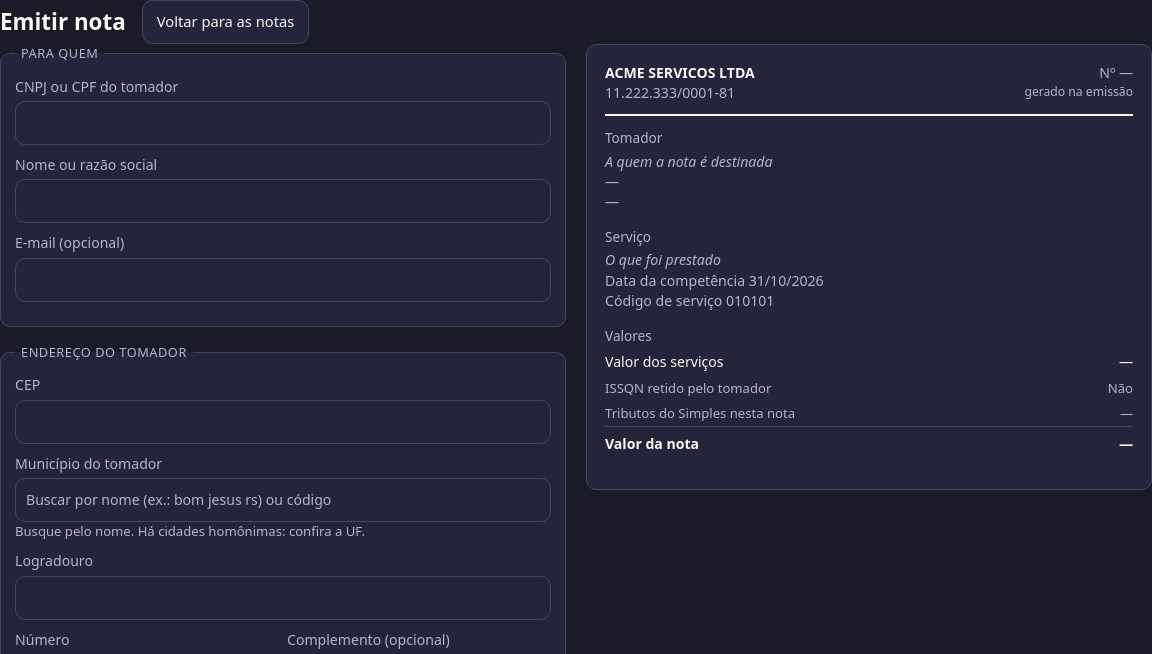
a consulta é AJUDA, nunca portão › nome digitado sobrevive à consulta, e a tela mostra o da Receita ao lado
Type "11222333000181" into the field labelled "CNPJ ou CPF do tomador".
click(283, 123); type("11222333000181")  # box [15,101,551,145]
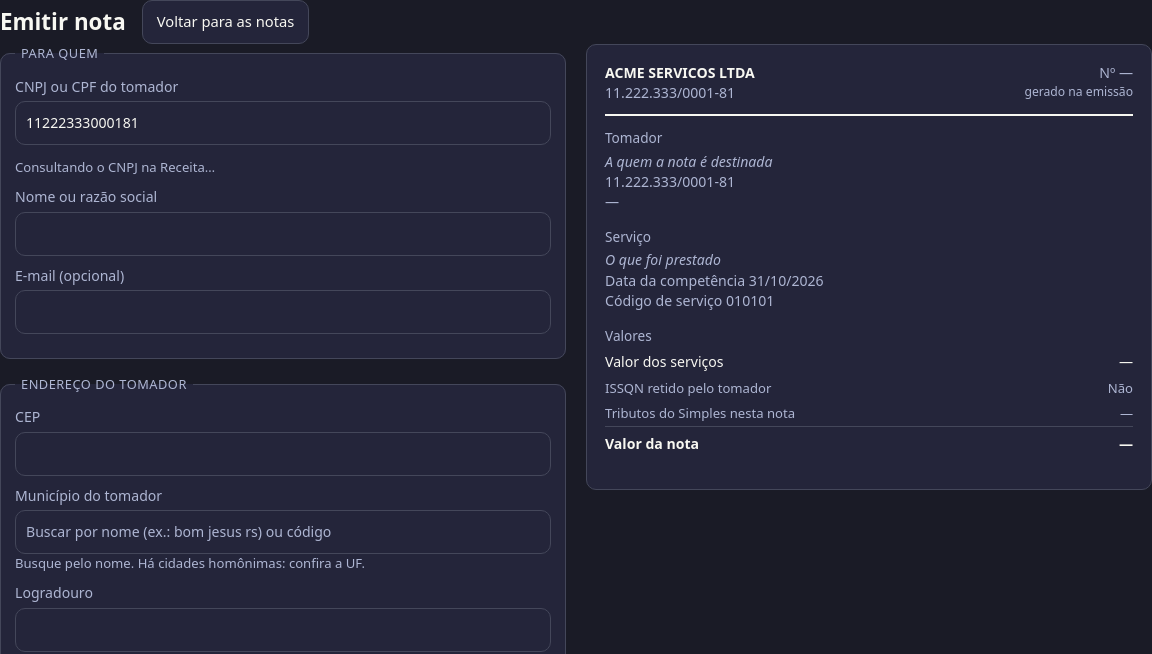
Type "Padaria do João" into the field with id "emitir-nome".
click(283, 234); type("Padaria do João")  # box [15,212,551,256]
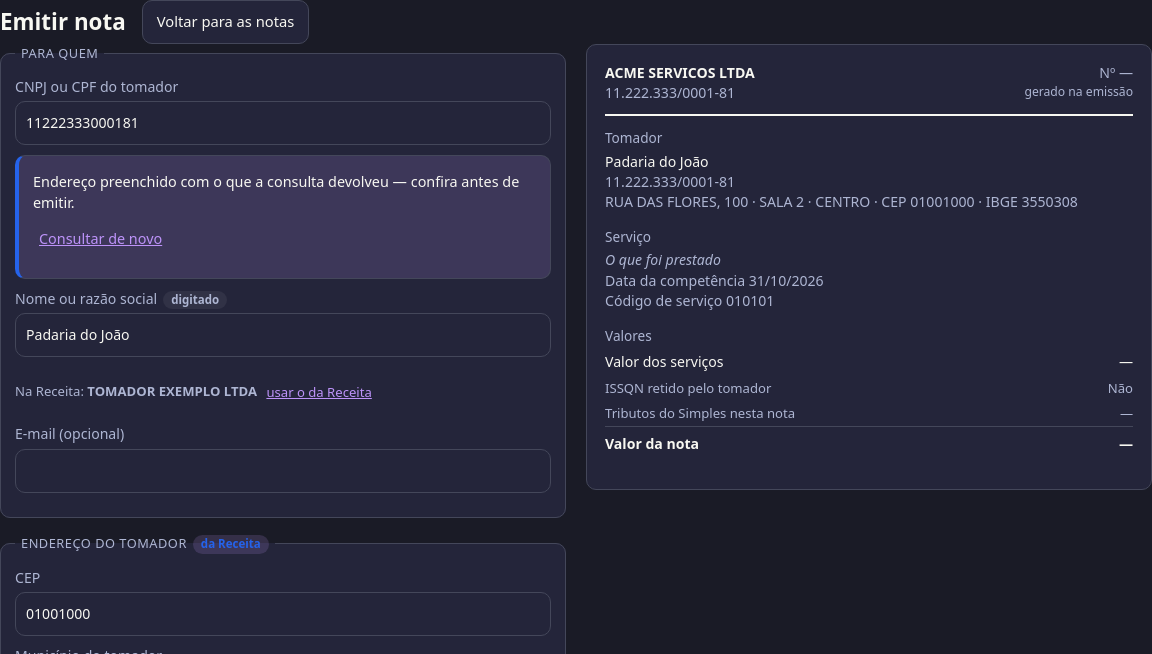
Check: the text "TOMADOR EXEMPLO LTDA" is shown, box [87,383,257,401]
Check: the button "usar o da Receita" is shown, box [260,370,378,414]
